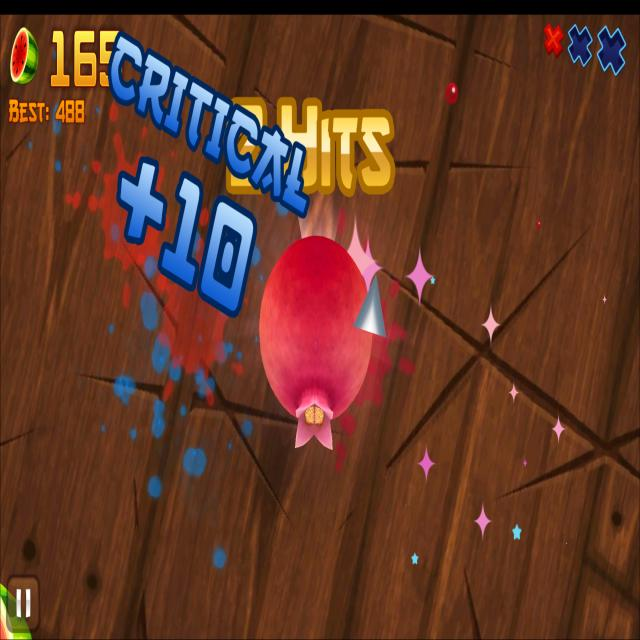fruit: (259, 235, 373, 420)
